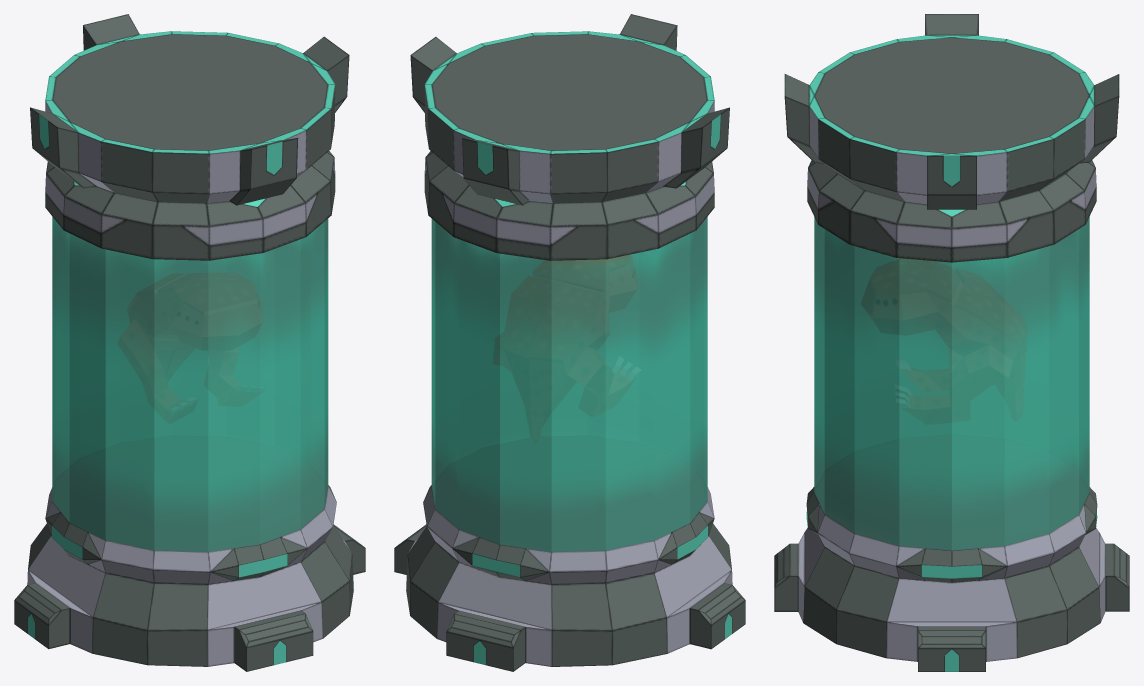
The model's file is chamber04.fbx.
The picture shows the model from 3 angles, left to right: view 1: azimuth 30°, elevation 25°; view 2: azimuth 150°, elevation 25°; view 3: azimuth 270°, elevation 25°; orthographic projection.
Visible parts, largest first — view 1: Circle, Circle.001; view 2: Circle, Circle.001, Cube; view 3: Circle, Circle.001.
Boxes of the visible parts, x1,y1,x2,y2 form: Circle: (14, 14, 365, 671); Circle.001: (52, 195, 328, 551); Circle: (394, 14, 745, 671); Circle.001: (431, 200, 707, 551); Cube: (542, 255, 632, 271); Circle: (774, 14, 1129, 671); Circle.001: (814, 153, 1089, 550).
Bounding box in the file's own units: 197 × 307 × 193.
